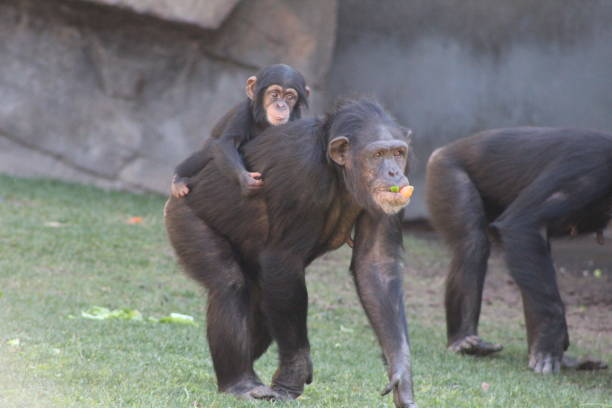chimpanzee: (323, 88, 423, 228), (235, 56, 312, 146)
